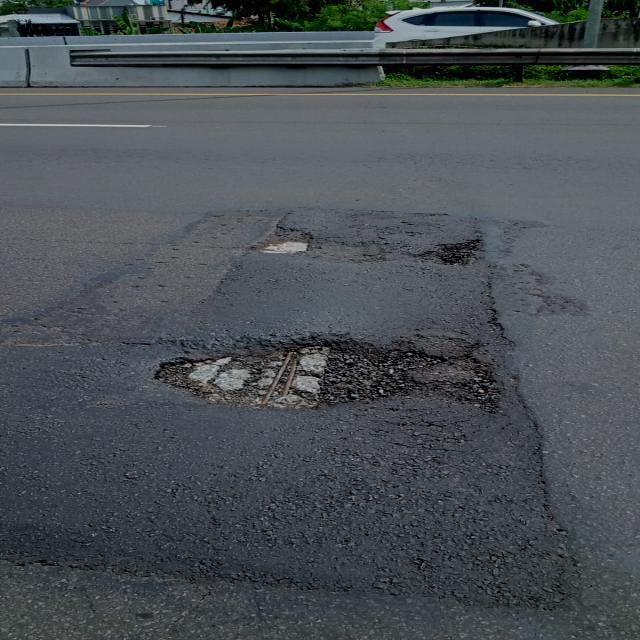Buraco: (149, 329, 506, 418), (245, 224, 316, 258), (409, 237, 485, 268)
